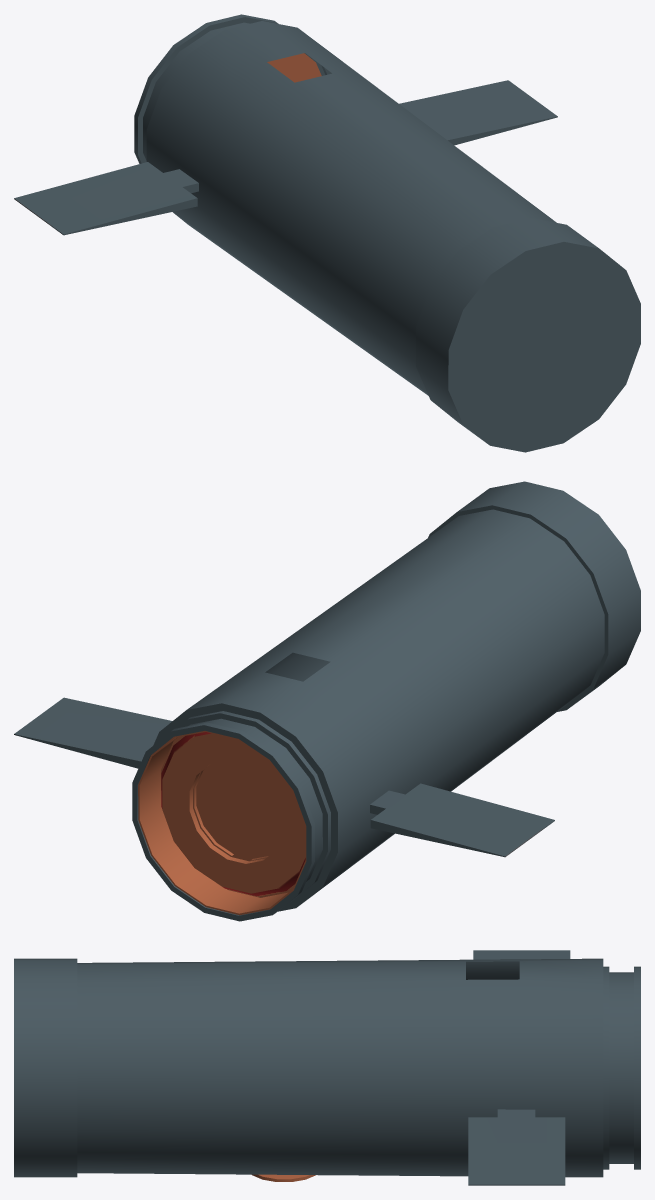
File: ЗУР-РО_П.fbx
The picture shows the model from 3 angles, top to bottom: view 1: azimuth 30°, elevation 25°; view 2: azimuth 150°, elevation 25°; view 3: azimuth 270°, elevation 25°; orthographic projection. The views are drawn at different scales.
Parts seen in each view (by area): view 1: ЗУР-РО_П; view 2: ЗУР-РО_П; view 3: ЗУР-РО_П.
Boxes of the visible parts, x1,y1,x2,y2 form: ЗУР-РО_П: (14,14,640,452); ЗУР-РО_П: (14,481,640,921); ЗУР-РО_П: (14,950,640,1185).
Bounding box in the file's own units: 149 × 58.27 × 168.
Materials: 1 (1 with a texture image).
